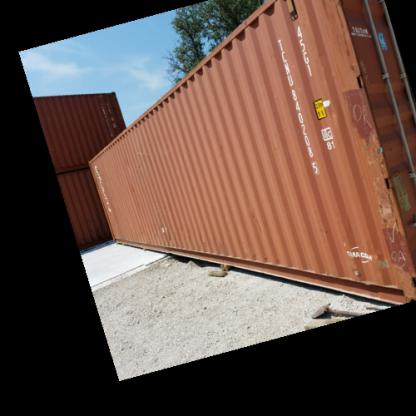Damage: (336, 73, 393, 163), (371, 184, 415, 290), (154, 214, 173, 246), (133, 139, 149, 161)
